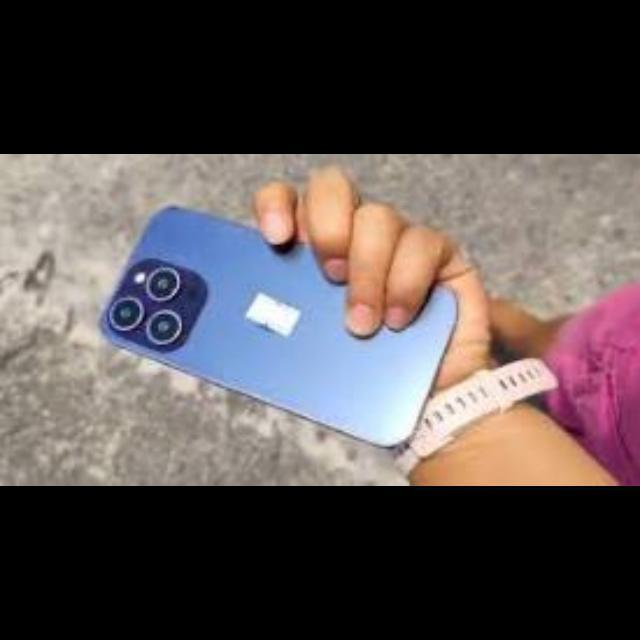PhoneUse: (95, 204, 462, 443)
